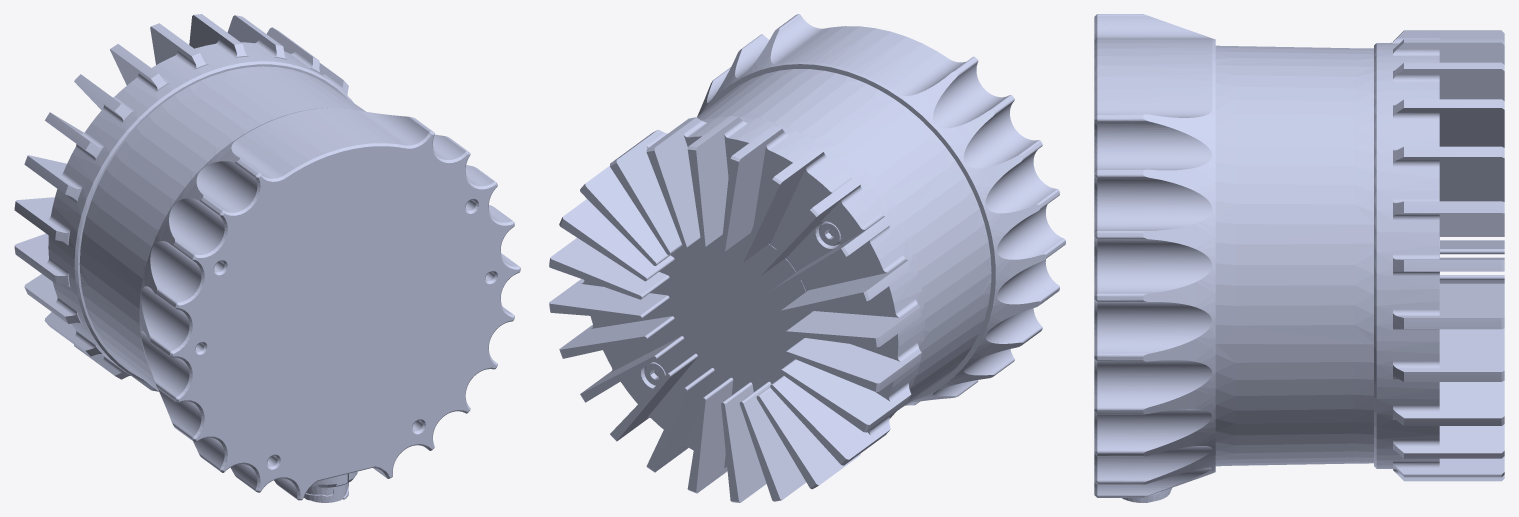
3 renders of one model, left to right at view 1: azimuth 30°, elevation 25°; view 2: azimuth 150°, elevation 25°; view 3: azimuth 270°, elevation 25°, orthographic. The views are drawn at different scales.
Parts seen in each view (by area): view 1: node0; view 2: node0; view 3: node0.
Part boxes in pixels (bbox=[...]): node0: bbox=[14, 14, 520, 502]; node0: bbox=[549, 14, 1065, 502]; node0: bbox=[1094, 14, 1504, 502].
Size of the model in its own units: 0.087 by 0.0735 by 0.0867.
